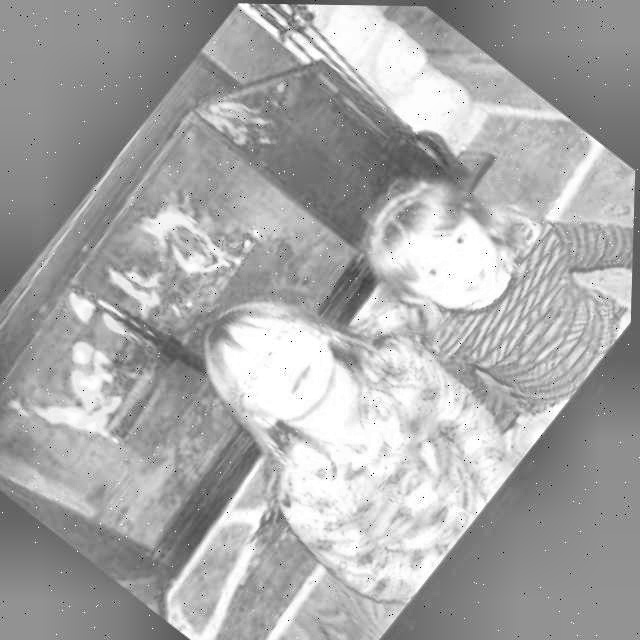Fire: (0, 156, 276, 474), (188, 55, 297, 160)
